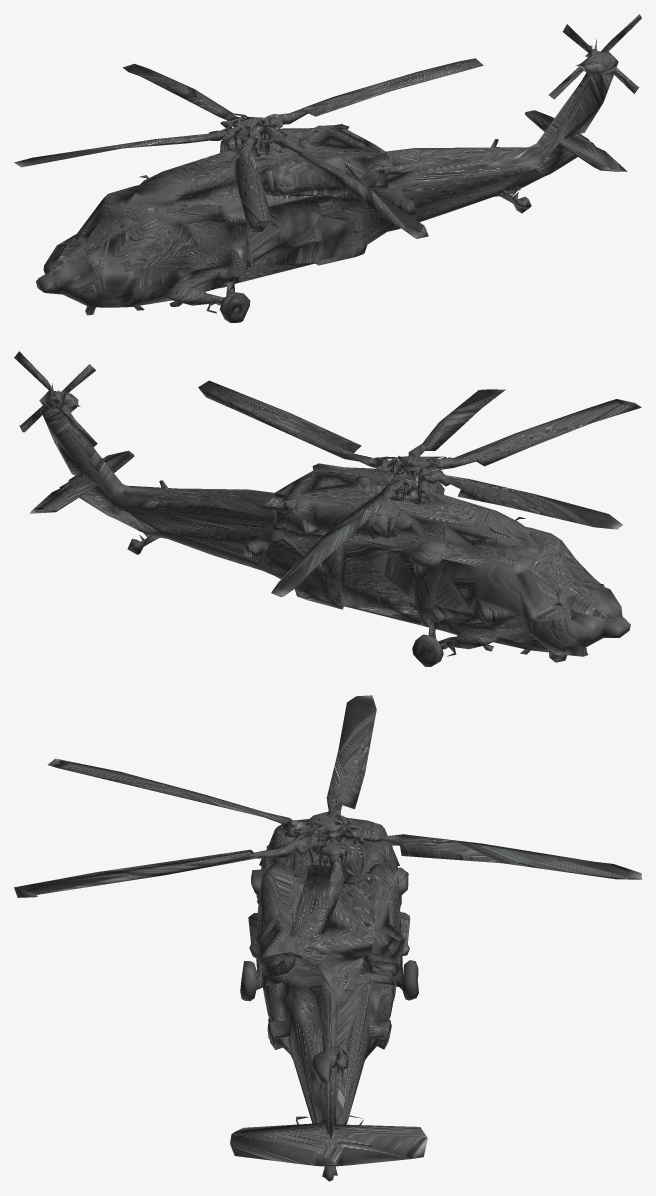
File: helicopter.glb
The picture shows the model from 3 angles, top to bottom: view 1: azimuth 30°, elevation 25°; view 2: azimuth 150°, elevation 25°; view 3: azimuth 270°, elevation 25°; orthographic projection. The views are drawn at different scales.
Visible parts, largest first — view 1: Mesh_0; view 2: Mesh_0; view 3: Mesh_0.
Boxes of the visible parts, bbox=[...] form: Mesh_0: bbox=[14, 14, 641, 322]; Mesh_0: bbox=[14, 351, 641, 666]; Mesh_0: bbox=[14, 695, 641, 1181].
Bounding box in the file's own units: 1.89 × 0.547 × 1.38.
Materials: 1 (1 with a texture image).
